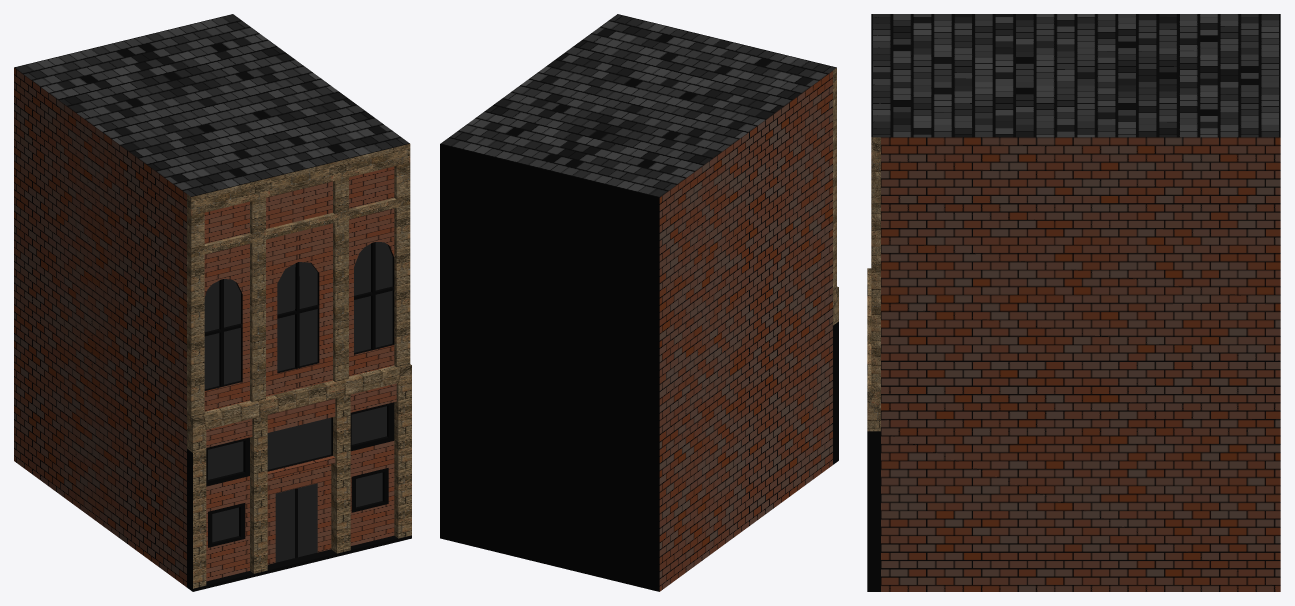
The model's file is store.fbx.
The picture shows the model from 3 angles, left to right: view 1: azimuth 30°, elevation 25°; view 2: azimuth 150°, elevation 25°; view 3: azimuth 270°, elevation 25°; orthographic projection. The views are drawn at different scales.
Visible parts, largest first — view 1: base, base.001, base.002; view 2: base, base.001, base.002; view 3: base.001, base.002, base.
Part boxes in pixels (left/top/right/bottom): base: left=187, top=144, right=411, bottom=591; base.001: left=14, top=67, right=186, bottom=587; base.002: left=14, top=14, right=409, bottom=196; base: left=440, top=68, right=838, bottom=591; base.001: left=659, top=71, right=832, bottom=591; base.002: left=440, top=14, right=836, bottom=197; base.001: left=881, top=137, right=1280, bottom=591; base.002: left=871, top=14, right=1280, bottom=137; base: left=867, top=137, right=880, bottom=591.
Bounding box in the file's own units: 561 × 964 × 794.
